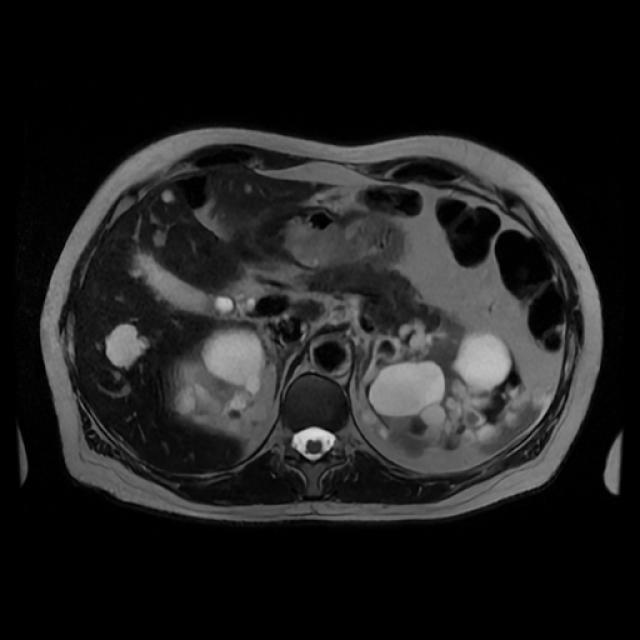sag: (175, 328, 270, 439)
sol: (356, 318, 548, 456)
